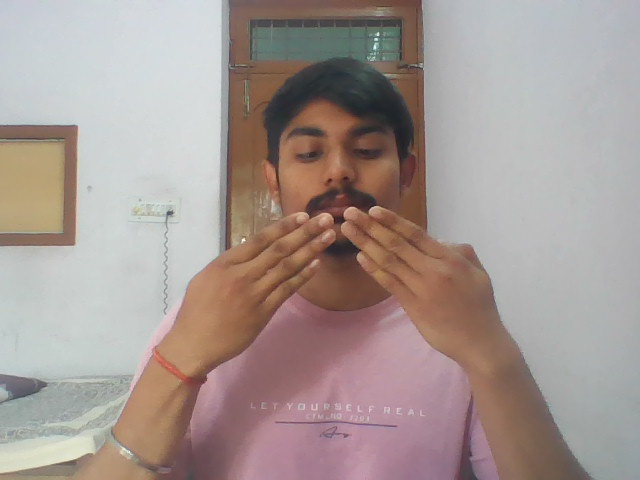Thanks: (169, 199, 533, 361)
